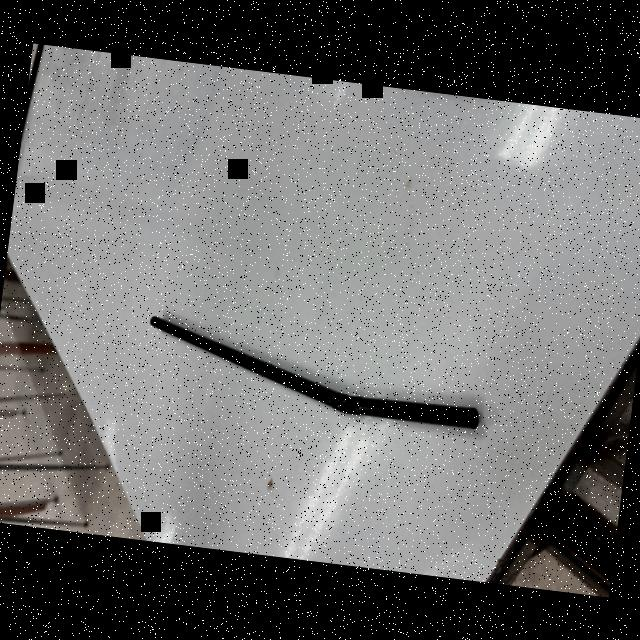straw: (132, 316, 498, 446)
